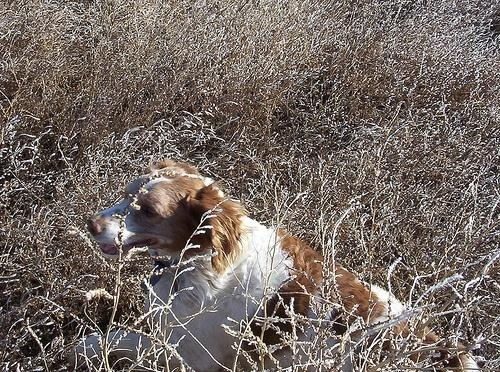dog: (69, 163, 477, 372)
